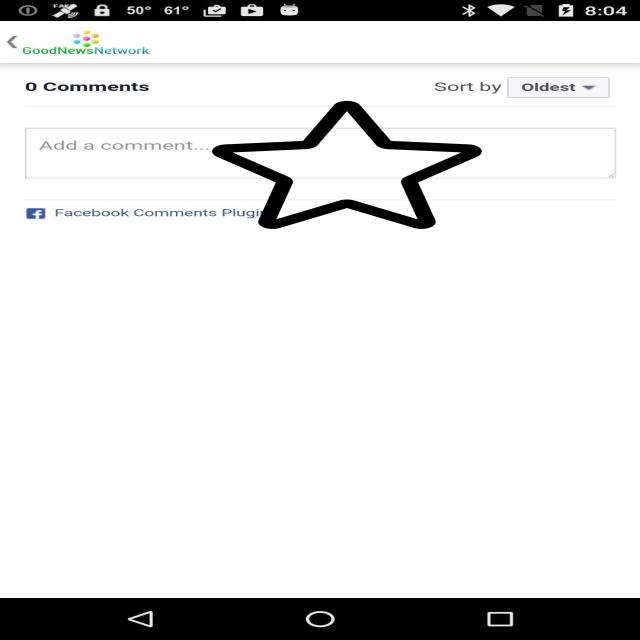forced continuity: (212, 98, 482, 232)
